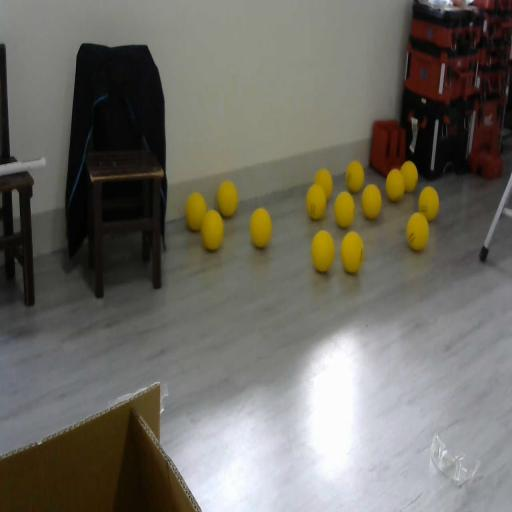FUEL: (310, 228, 336, 272), (340, 230, 365, 273), (200, 208, 224, 252), (405, 211, 429, 252), (250, 208, 272, 248), (185, 192, 207, 231), (216, 180, 238, 218), (418, 185, 440, 222), (334, 191, 355, 228), (361, 183, 382, 220), (385, 167, 405, 202), (313, 168, 333, 202), (346, 160, 364, 193)
